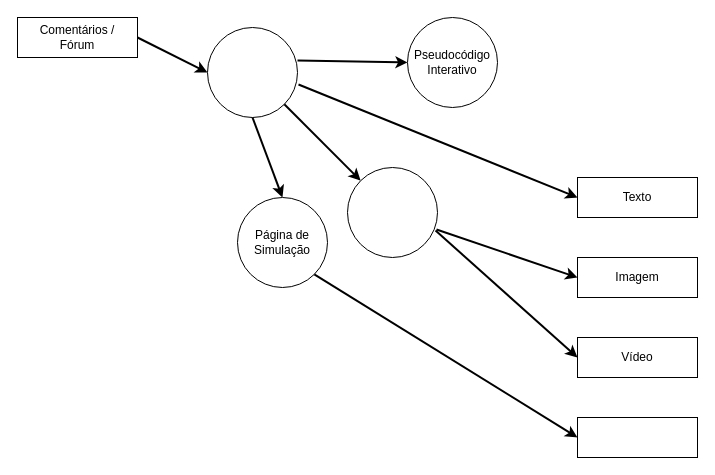
The diagram is 715 pixels wide and 475 high, and some of its shapes have lost their labels. Here are the shapes that lost their labels. From the top down, the box of each, then its label:
(206, 26, 298, 118): Página do Algoritmo
(346, 166, 438, 258): Vídeos / Imagens do Algoritmo
(576, 416, 698, 458): Simulação
